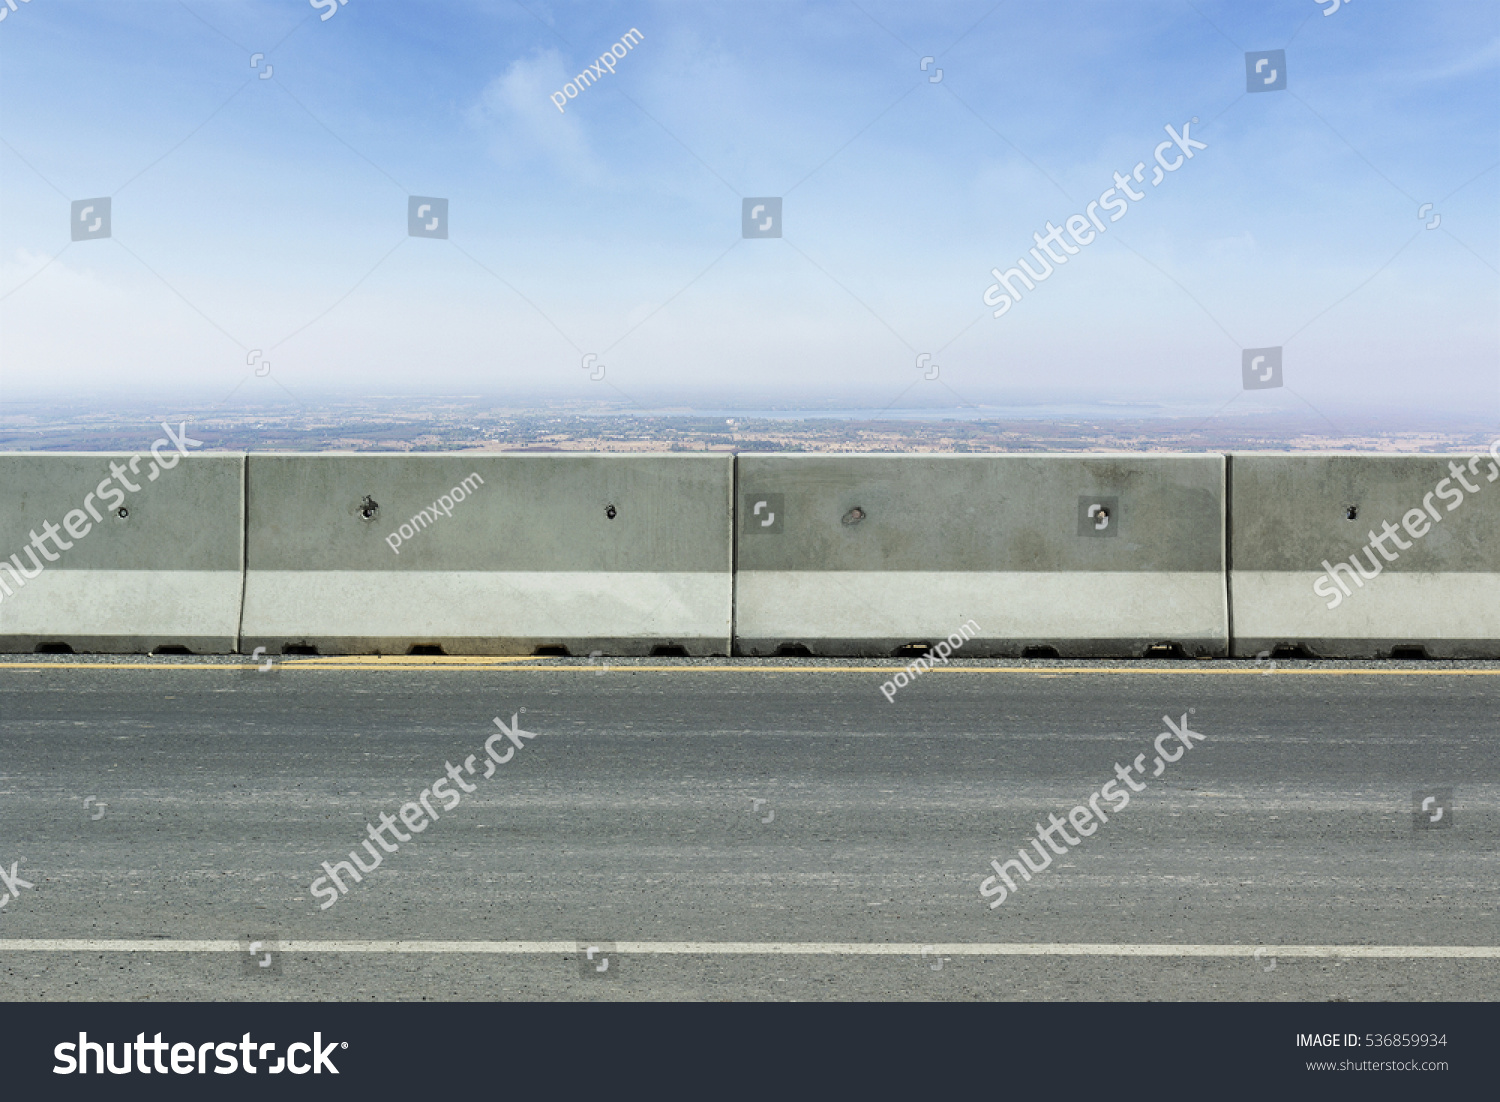not_damaged: (8, 408, 1500, 760)
